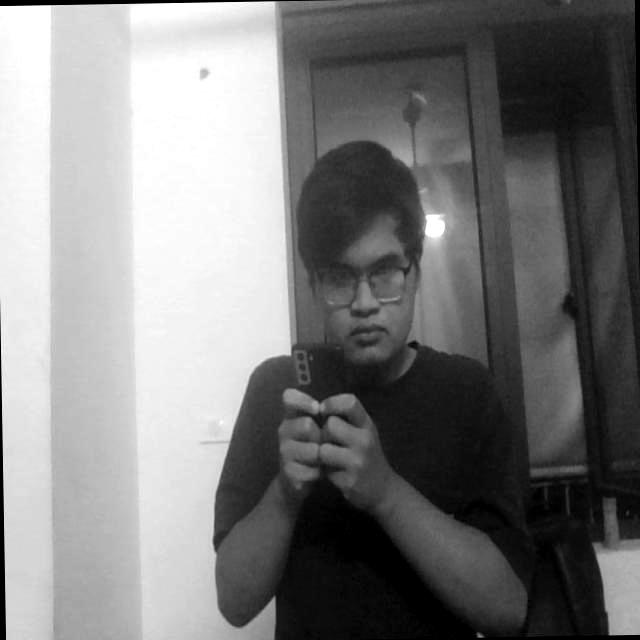phone: (282, 336, 362, 451)
